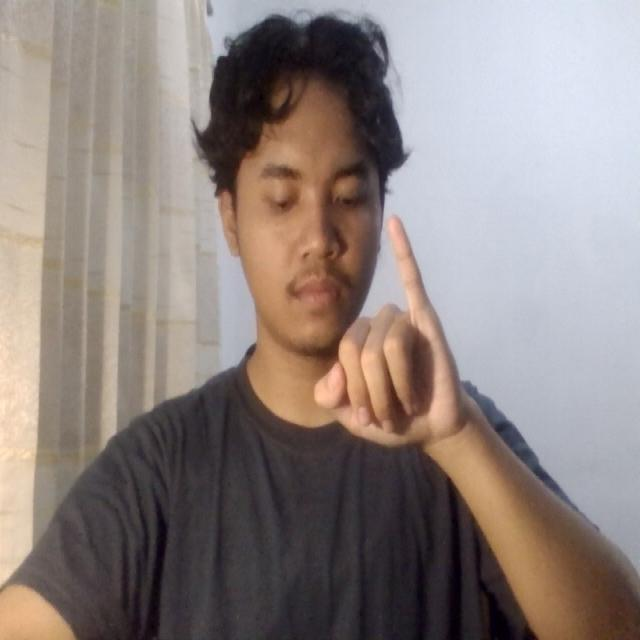Hello: (289, 209, 485, 475)
